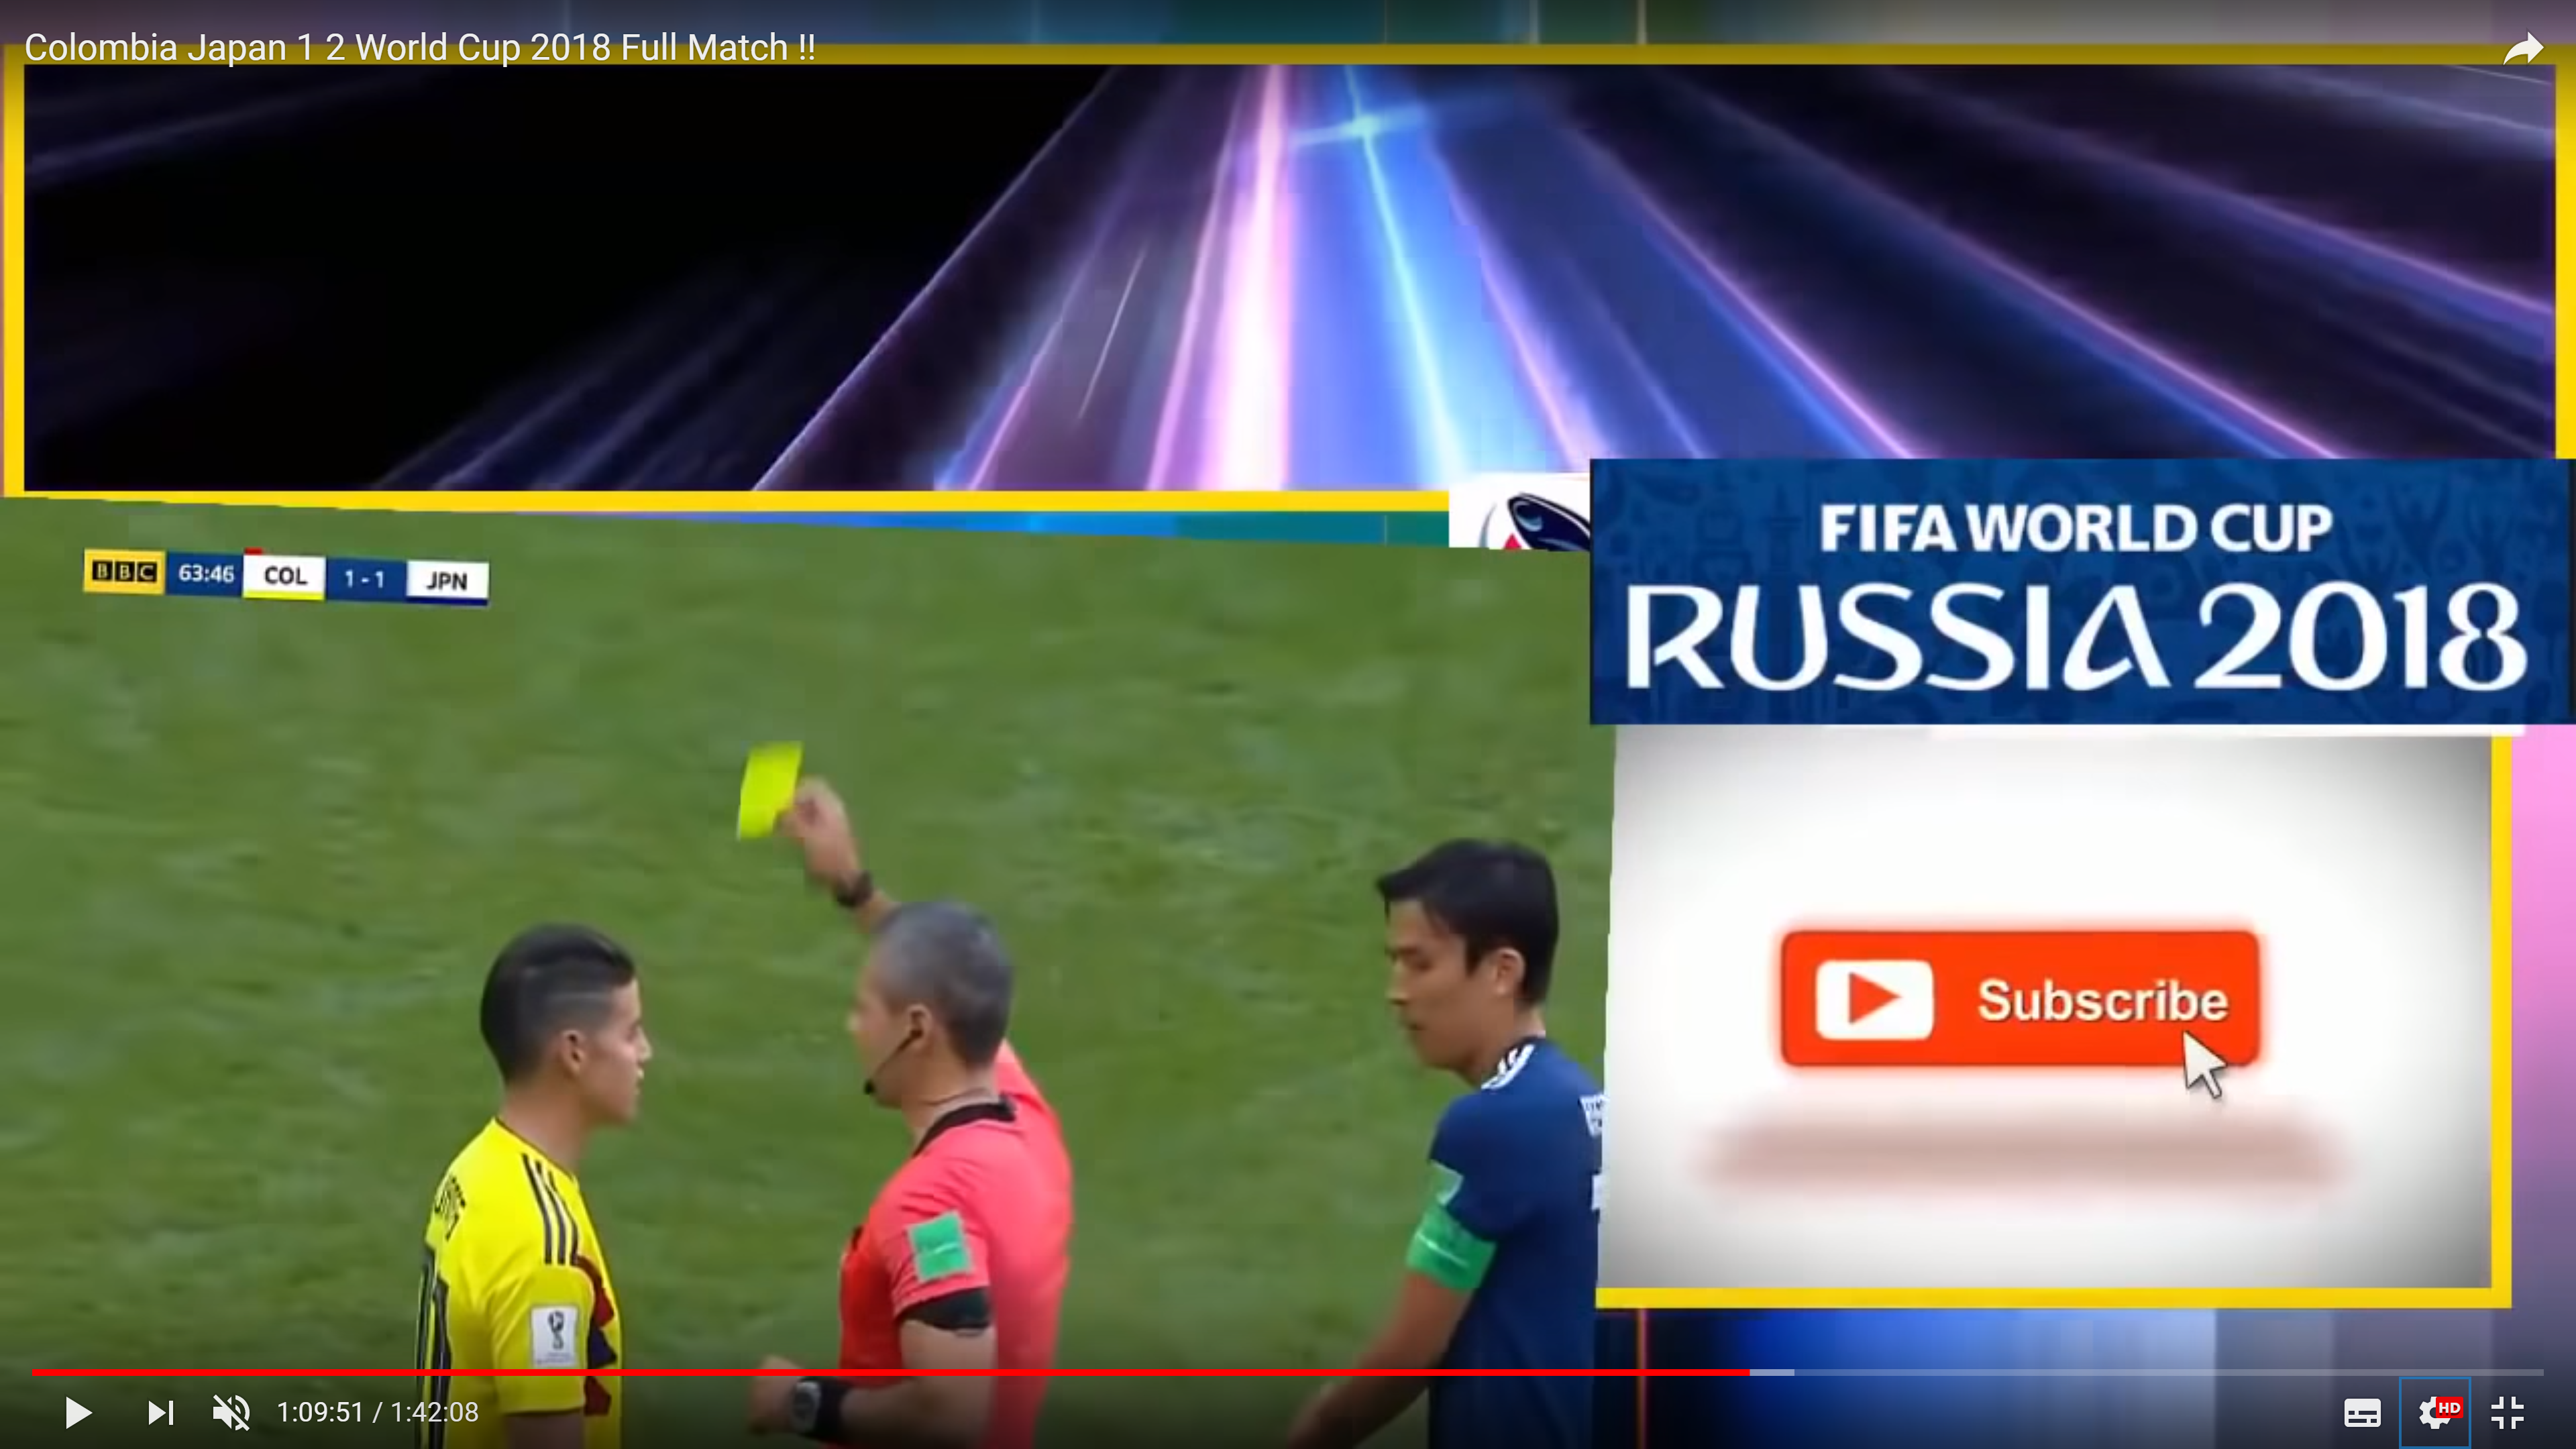yellow_card: (736, 725, 862, 901)
